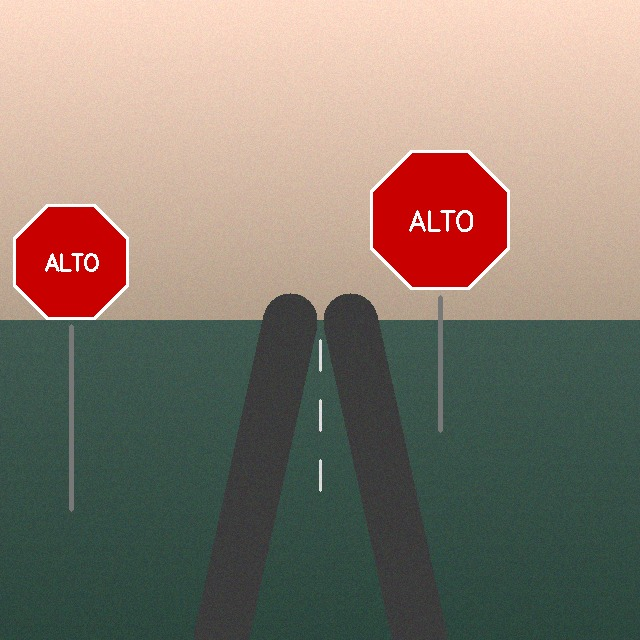alto: (364, 144, 517, 297), (8, 199, 135, 326)
